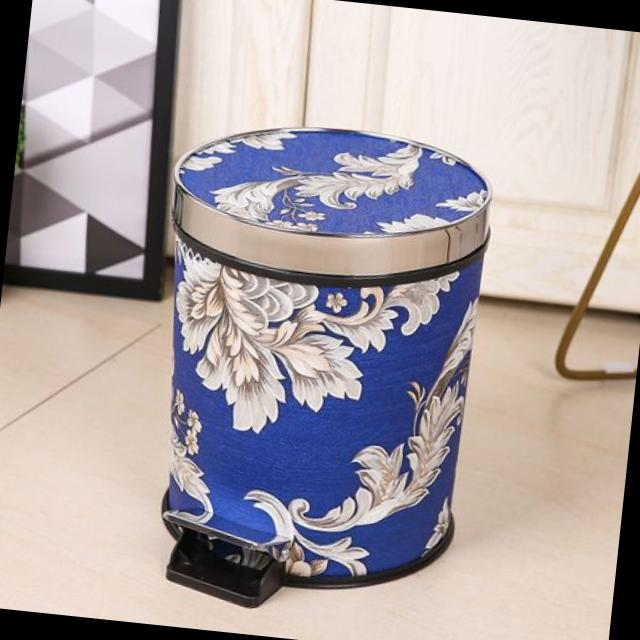dustbin: (120, 106, 509, 627)
